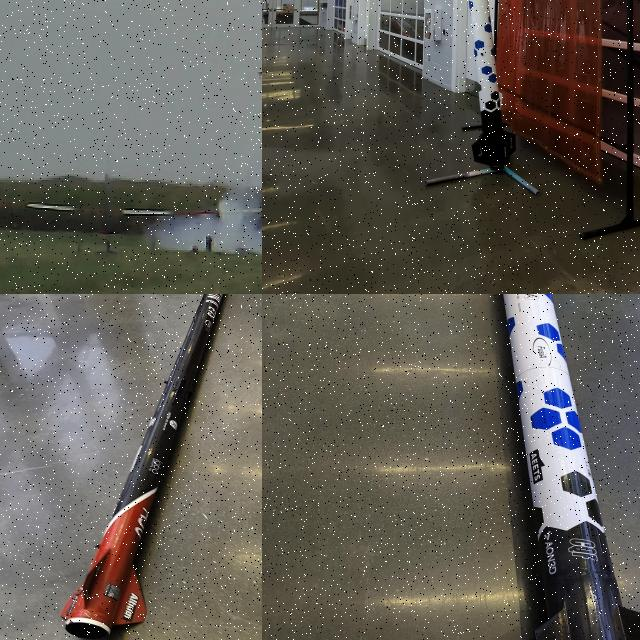Rocket: (61, 294, 223, 639), (502, 294, 640, 640), (468, 0, 516, 171), (257, 21, 262, 77)
